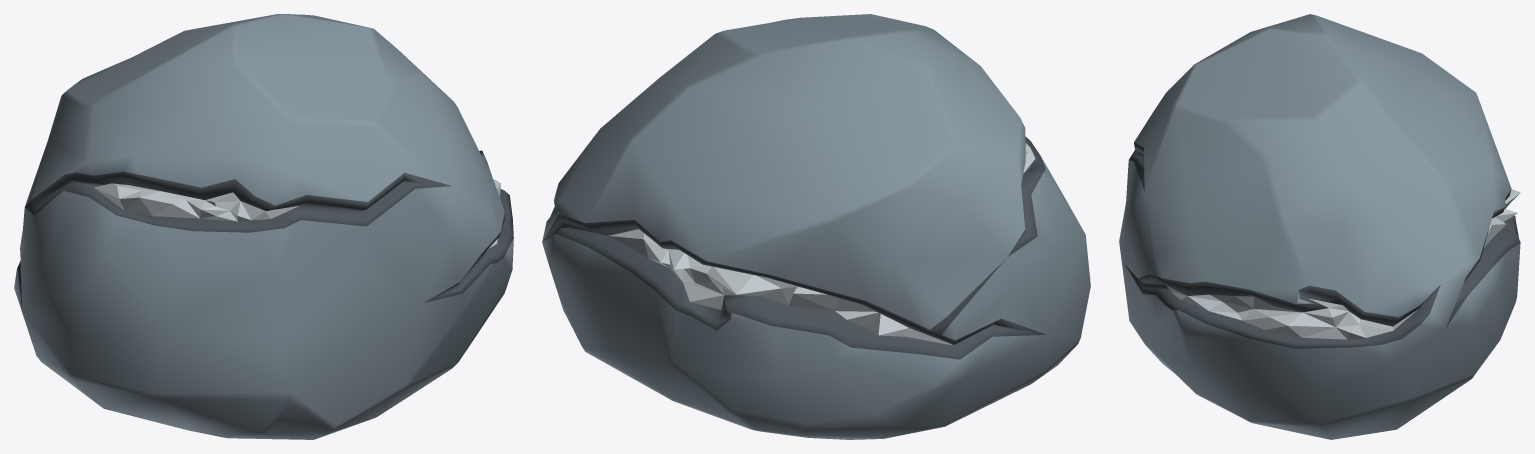
The model's file is PT_Ore_Rock_01.glb.
3 renders of one model, left to right at view 1: azimuth 30°, elevation 25°; view 2: azimuth 150°, elevation 25°; view 3: azimuth 270°, elevation 25°, orthographic. The views are drawn at different scales.
Visible parts, largest first — view 1: PT_Ore_Rock_01_LOD0; view 2: PT_Ore_Rock_01_LOD0; view 3: PT_Ore_Rock_01_LOD0.
Part boxes in pixels (x1,y1,x2,y2): PT_Ore_Rock_01_LOD0: [14, 14, 513, 439]; PT_Ore_Rock_01_LOD0: [542, 14, 1090, 439]; PT_Ore_Rock_01_LOD0: [1119, 14, 1520, 439].
Size of the model in its own units: 0.6325 by 0.4696 by 0.5231.
Materials: 1 (1 with a texture image).
